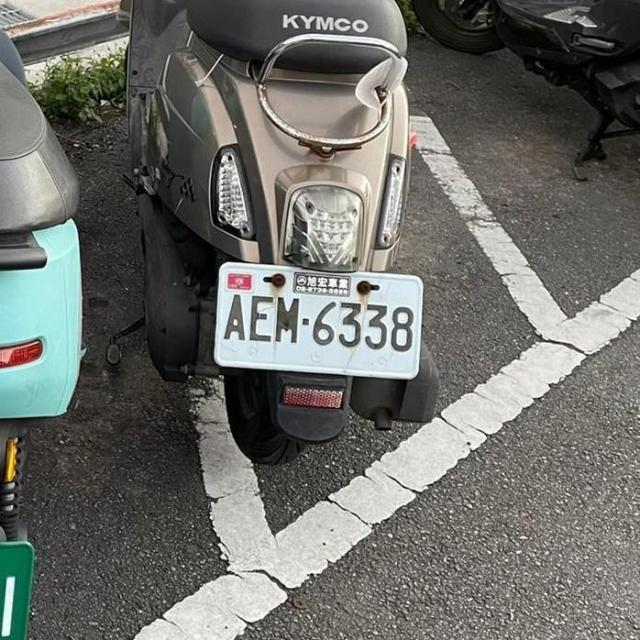W: (209, 254, 427, 388)
